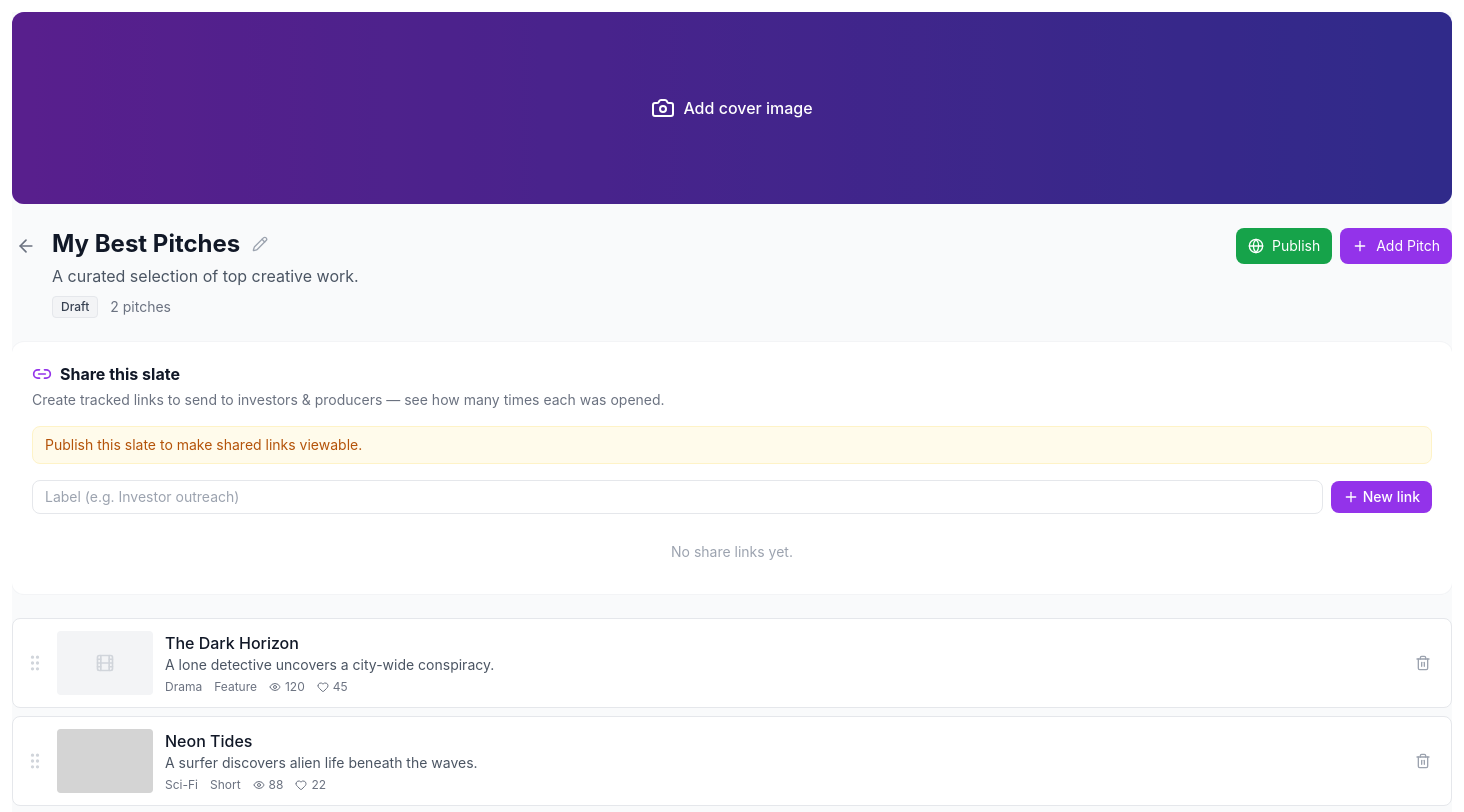
CreatorSlateDetail › shows title input when edit mode is activated
Expected: the heading "My Best Pitches" is shown, [52,228,240,260]
Click the button without text next to "My Best Pitches".
click(260, 244)  # box [248,232,272,256]
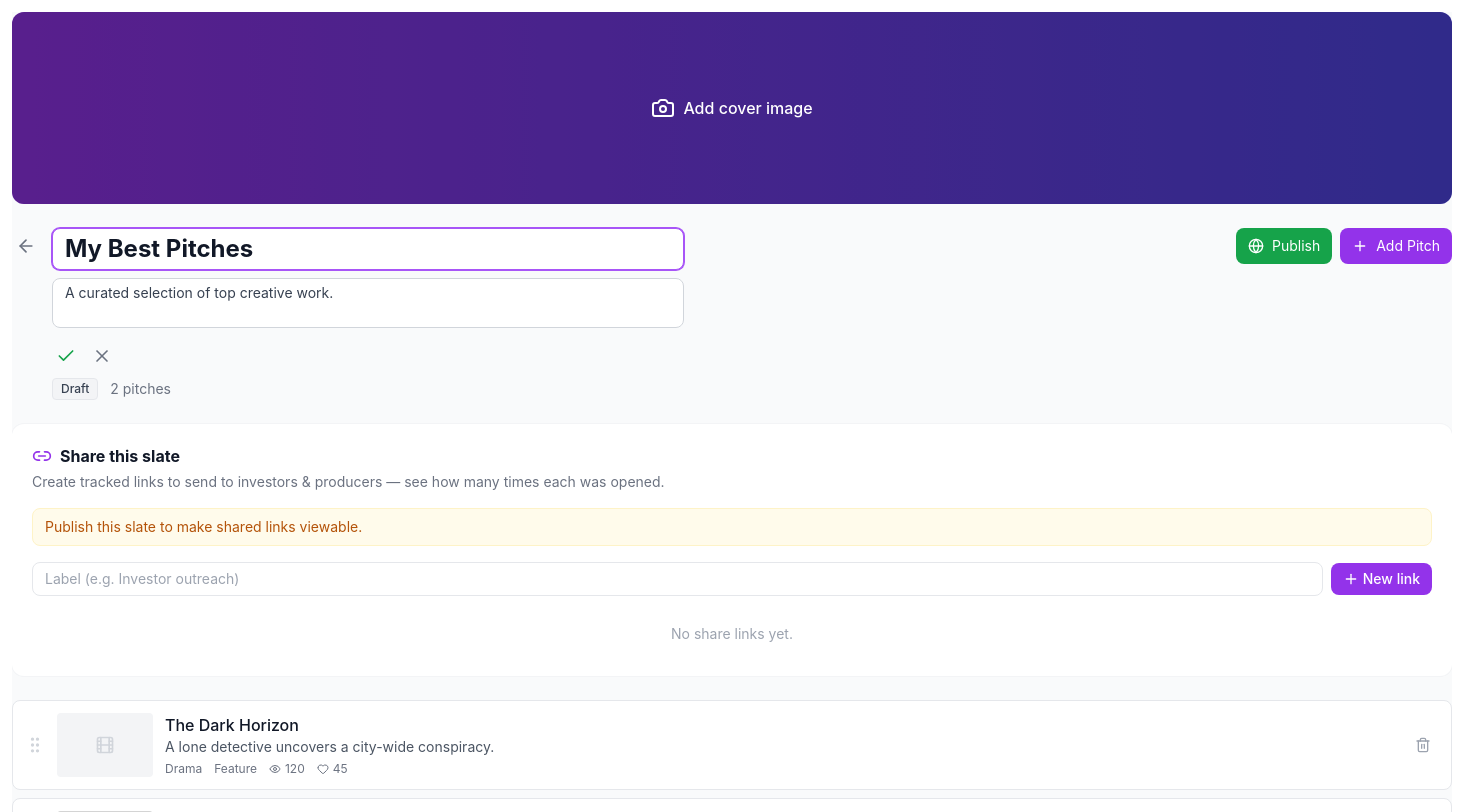
Now the field showing "My Best Pitches" is shown, box [52,228,684,270]
